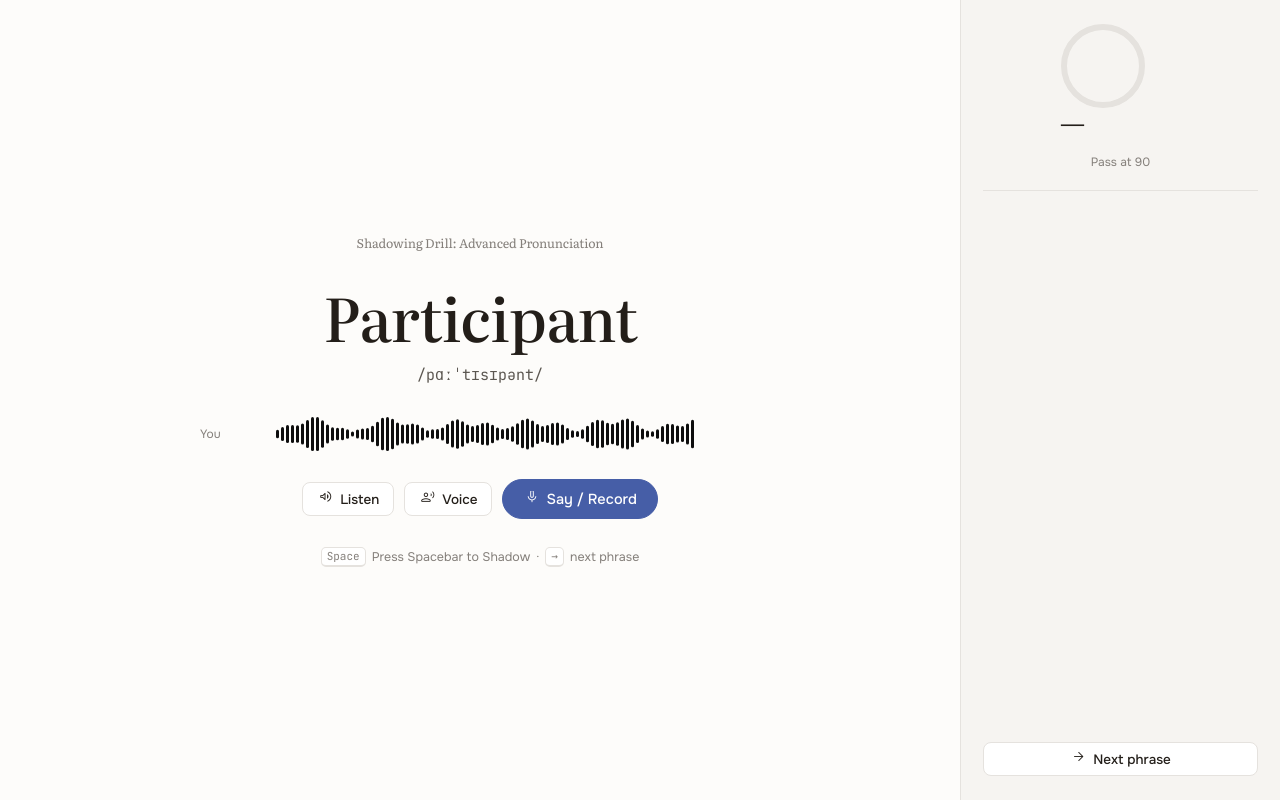
ShadowingPanel › Next phrase advances via postpone
What coordinates should you click on to do the following:
click the button "Next phrase"
I would click on:
 (1120, 759)
Its box is [983,742,1258,776].
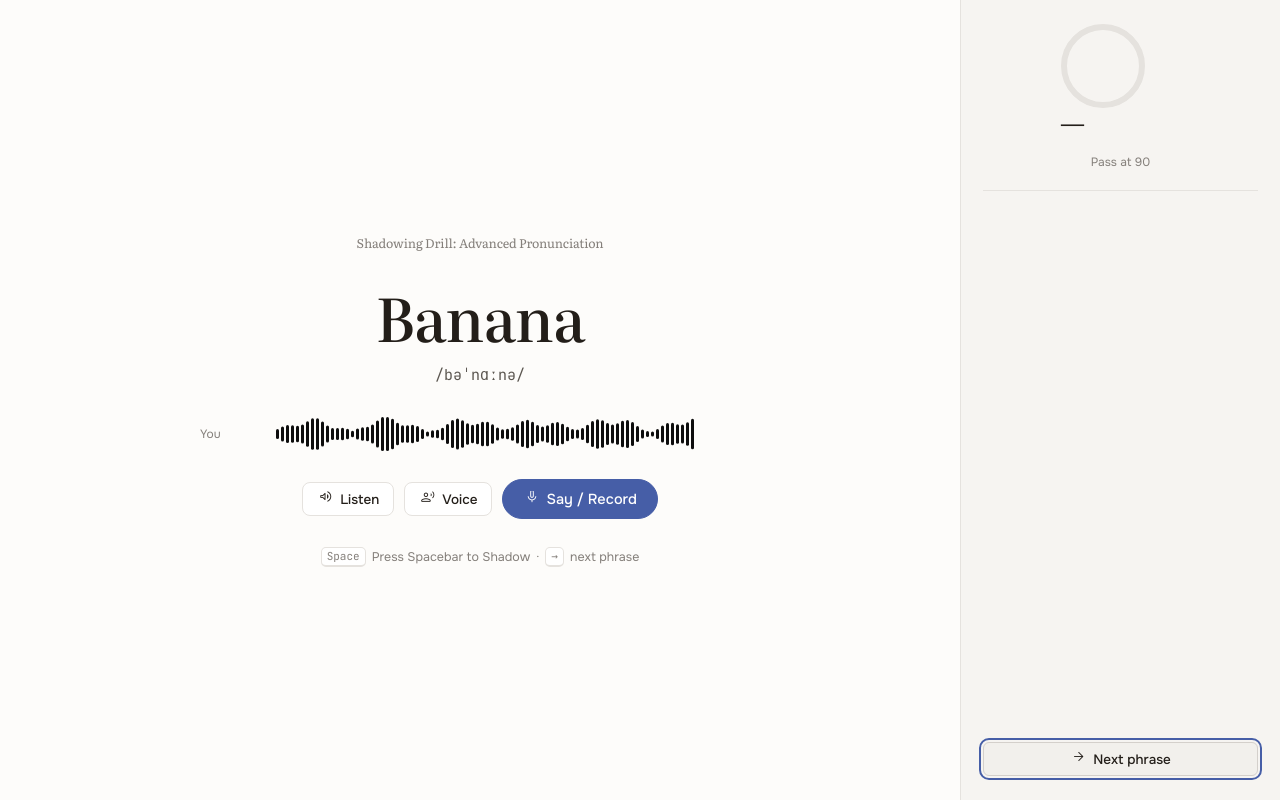
Result: the text named "Phrase to shadow" reads "Banana" at [375,271,585,360]
